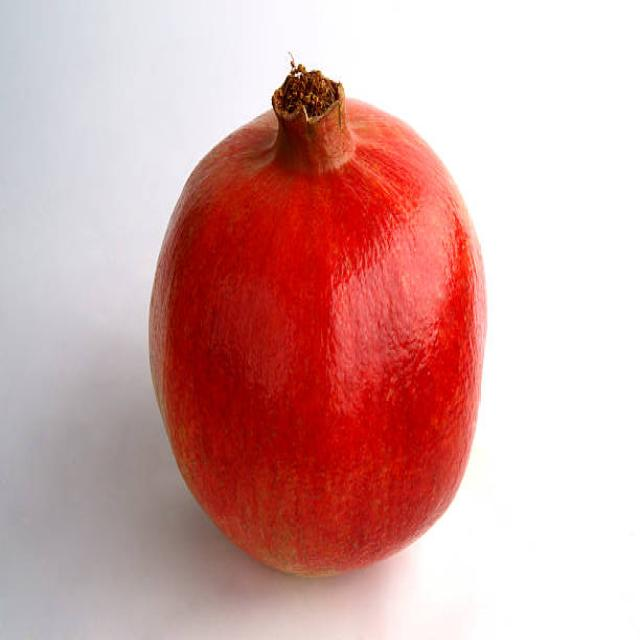Ripe: (144, 57, 492, 584)
